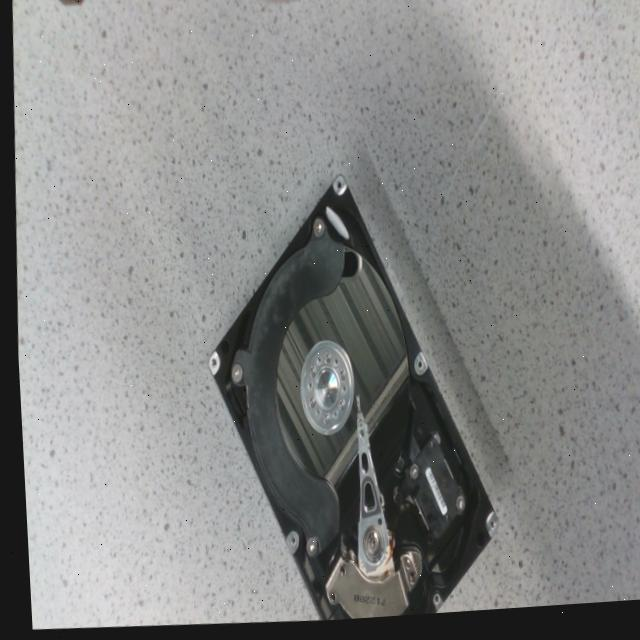actuator arm: (349, 395, 386, 587)
actuator axis: (356, 531, 374, 565)
case: (204, 180, 490, 624)
magnet: (317, 563, 399, 623)
pcb connector: (409, 442, 456, 542)
platter: (269, 253, 402, 536)
platter holder: (295, 344, 348, 438)
platter protector: (226, 221, 340, 559)
screw: (226, 365, 237, 388), (309, 221, 321, 241), (299, 540, 310, 560), (449, 500, 458, 519), (403, 468, 412, 484)
